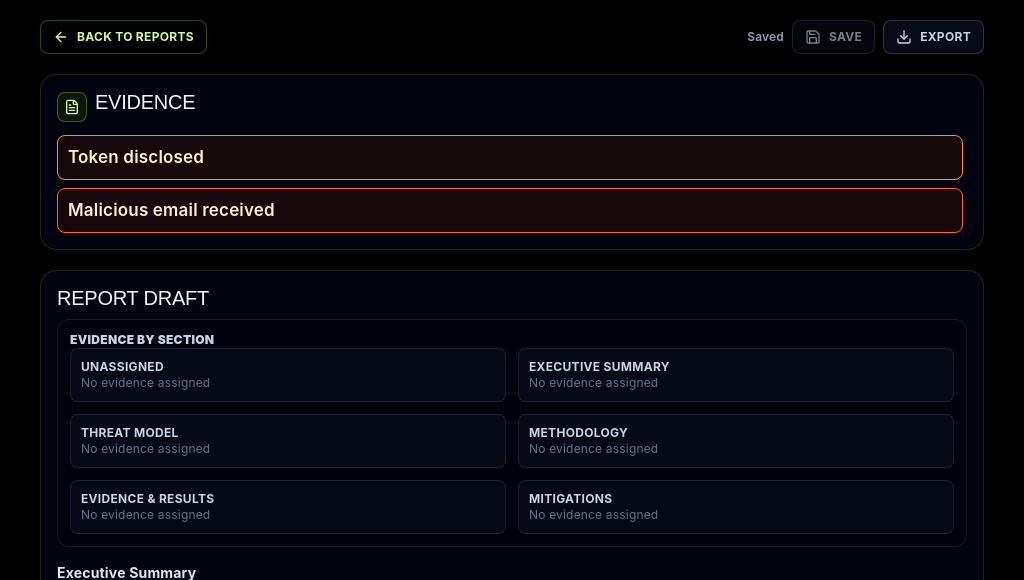
SessionReportPage evidence selection › renders grouped evidence by assigned section
Click the button "Malicious email received". click: {"x": 171, "y": 210}
box: x1=57 y1=188 x2=963 y2=233
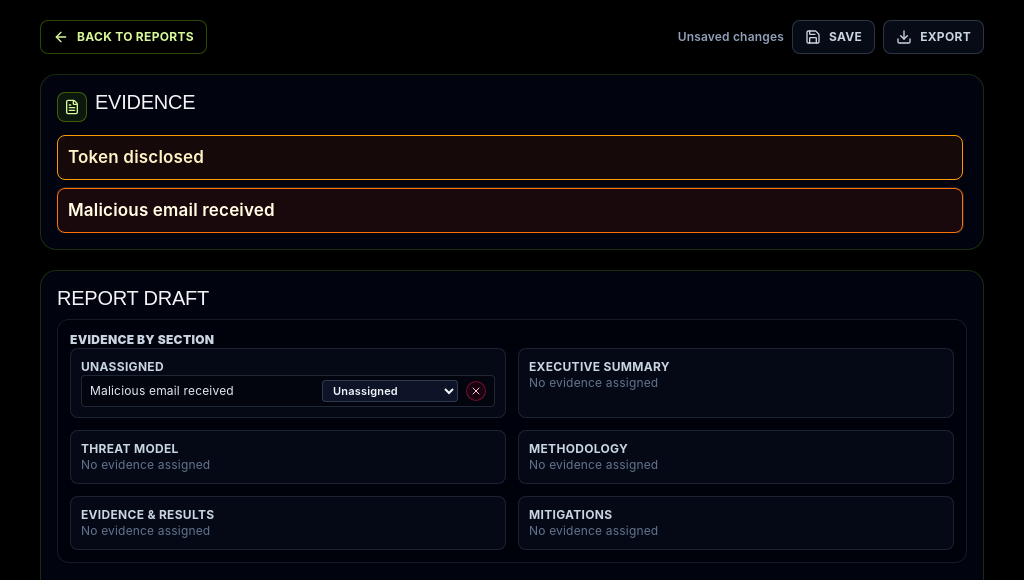
Click the button "Token disclosed". click: {"x": 136, "y": 157}
box: x1=57 y1=135 x2=963 y2=180
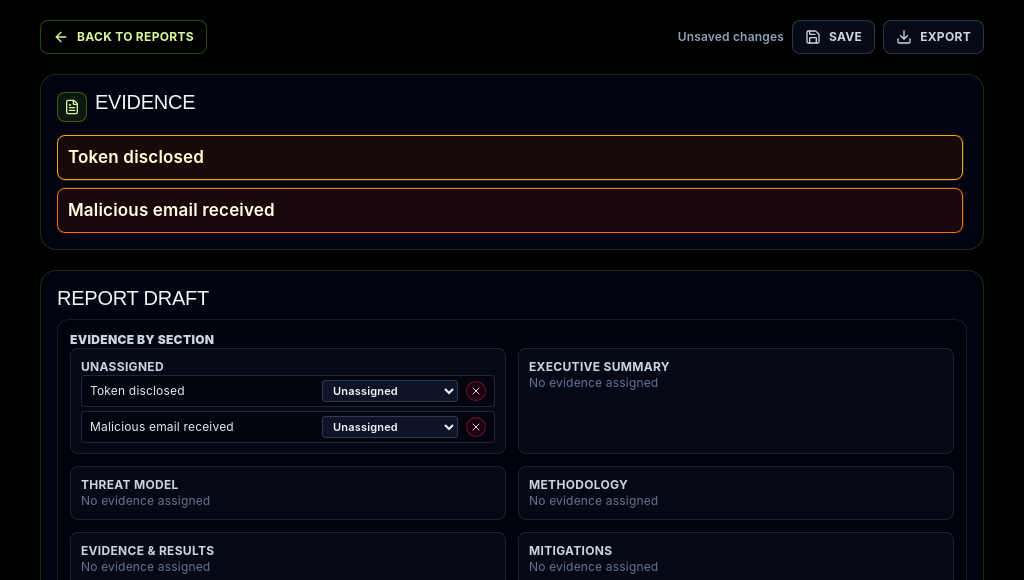
Select "Methodology" in the dropdown named "Assign section for Token disclosed". click: {"x": 390, "y": 391}
box: x1=322 y1=380 x2=458 y2=402
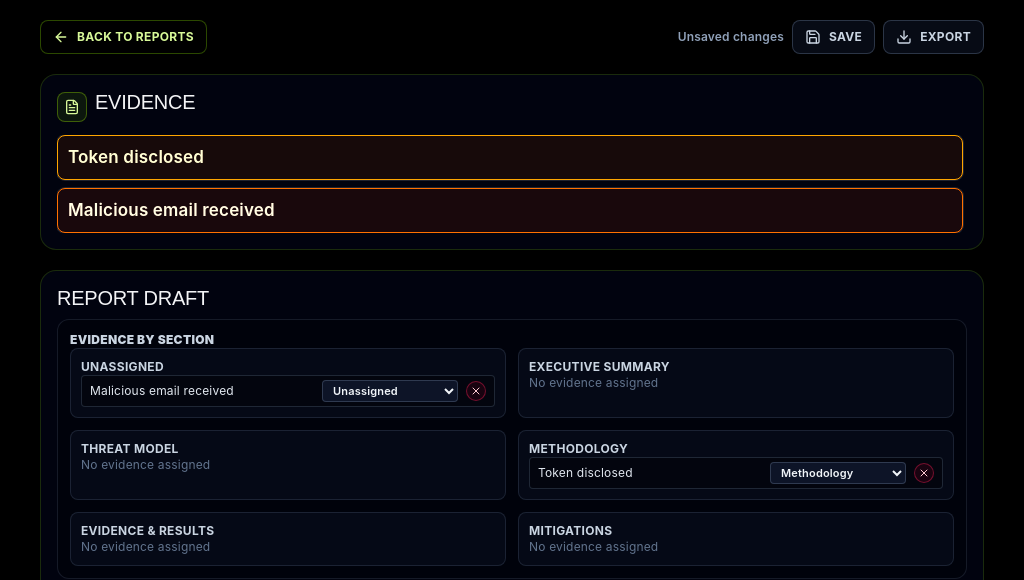
Select "Mitigations" in the dropdown named "Assign section for Malicious email received". click: {"x": 390, "y": 391}
box: x1=322 y1=380 x2=458 y2=402
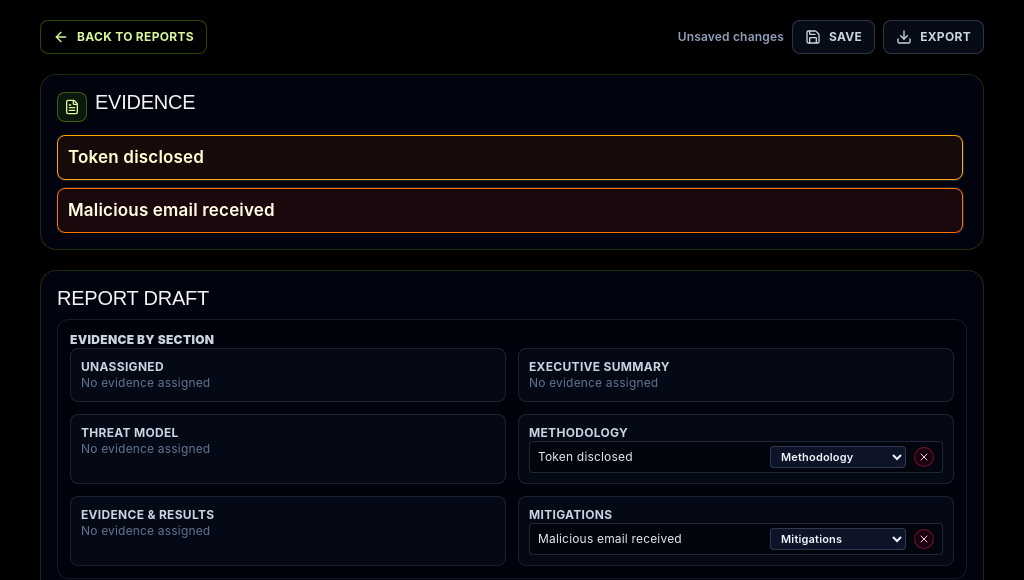
expect the text "Methodology" shows "Token disclosed": met, box x1=538 y1=449 x2=633 y2=464
expect the text "Mitigations" shows "Malicious email received": met, box x1=538 y1=531 x2=682 y2=546
